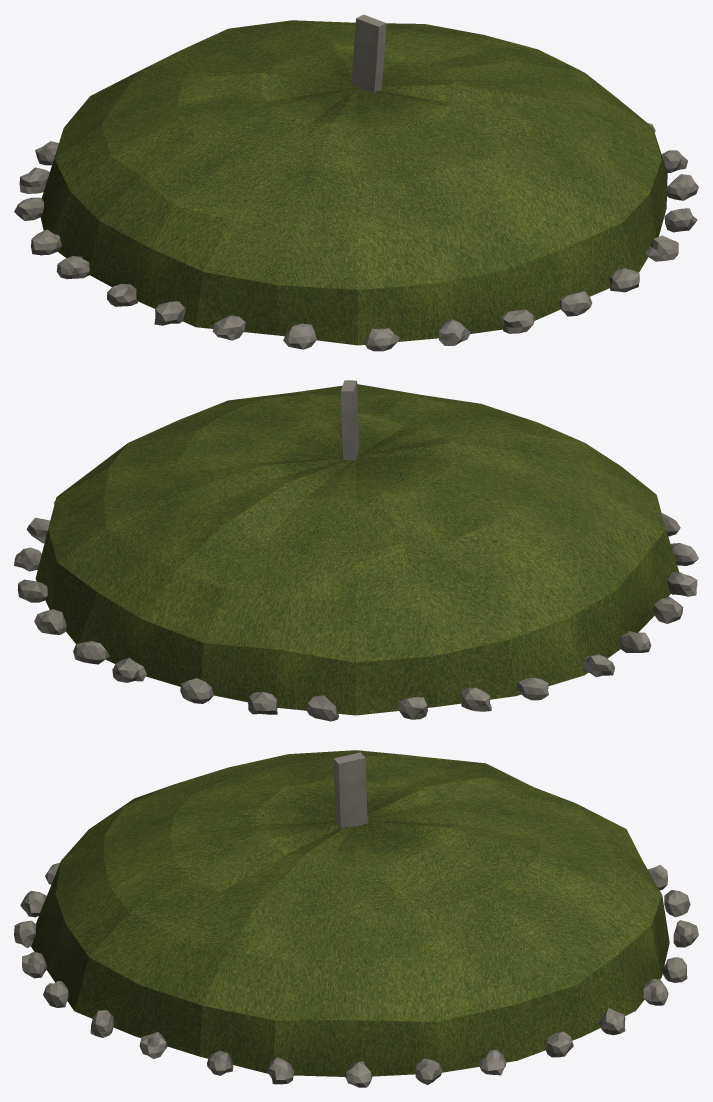
File: tumulo.glb
The picture shows the model from 3 angles, top to bottom: view 1: azimuth 30°, elevation 25°; view 2: azimuth 150°, elevation 25°; view 3: azimuth 270°, elevation 25°; orthographic projection.
Parts seen in each view (by area): view 1: tumulo; view 2: tumulo; view 3: tumulo.
Part boxes in pixels (left/top/right/bottom): tumulo: left=14, top=14, right=698, bottom=351; tumulo: left=14, top=380, right=698, bottom=721; tumulo: left=14, top=750, right=698, bottom=1087.
Size of the model in its own units: 11.91 by 3.61 by 11.77.
3 materials, 3 textured.
